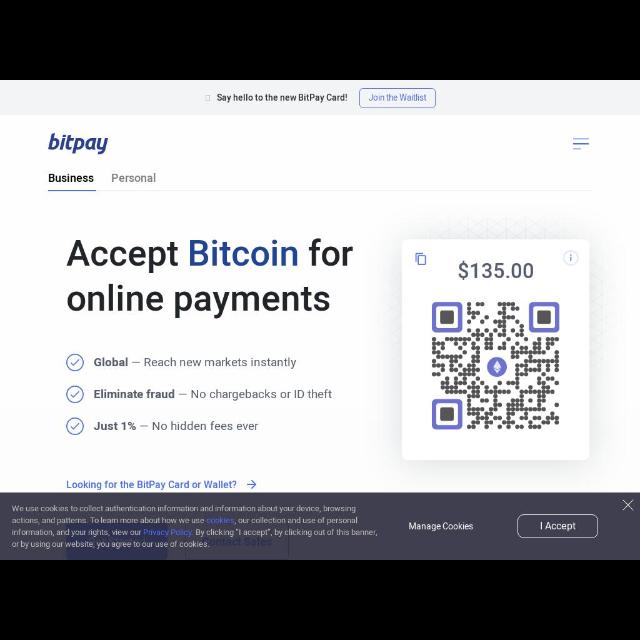icon: (66, 354, 84, 372), (571, 135, 591, 151), (66, 385, 82, 403), (66, 418, 82, 436), (564, 250, 578, 266), (416, 253, 426, 265), (248, 480, 256, 488)
iframe: (1, 492, 640, 560)
image: (432, 302, 560, 431), (206, 95, 210, 101)
multitab: (46, 172, 158, 186)
text: (67, 240, 353, 316), (11, 505, 376, 547), (94, 388, 332, 399), (96, 357, 296, 369), (94, 422, 260, 432), (458, 260, 532, 280), (67, 480, 237, 488), (217, 92, 349, 102), (49, 133, 109, 153), (48, 172, 92, 182), (539, 521, 579, 531), (408, 523, 474, 529), (112, 174, 154, 182)
textbutton: (517, 515, 597, 539), (359, 88, 436, 109)
